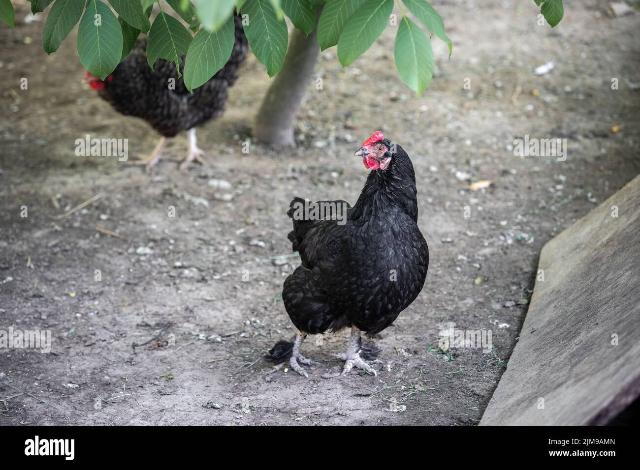Chicken: (274, 129, 429, 380), (84, 16, 252, 174)
